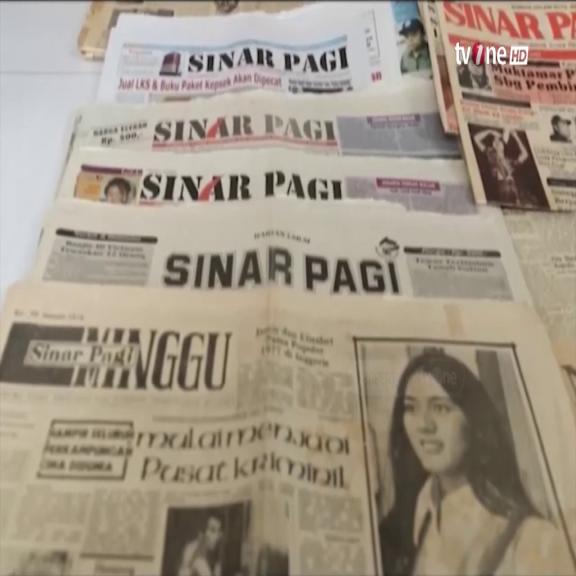Kertas: (0, 276, 385, 572), (99, 5, 420, 104)
